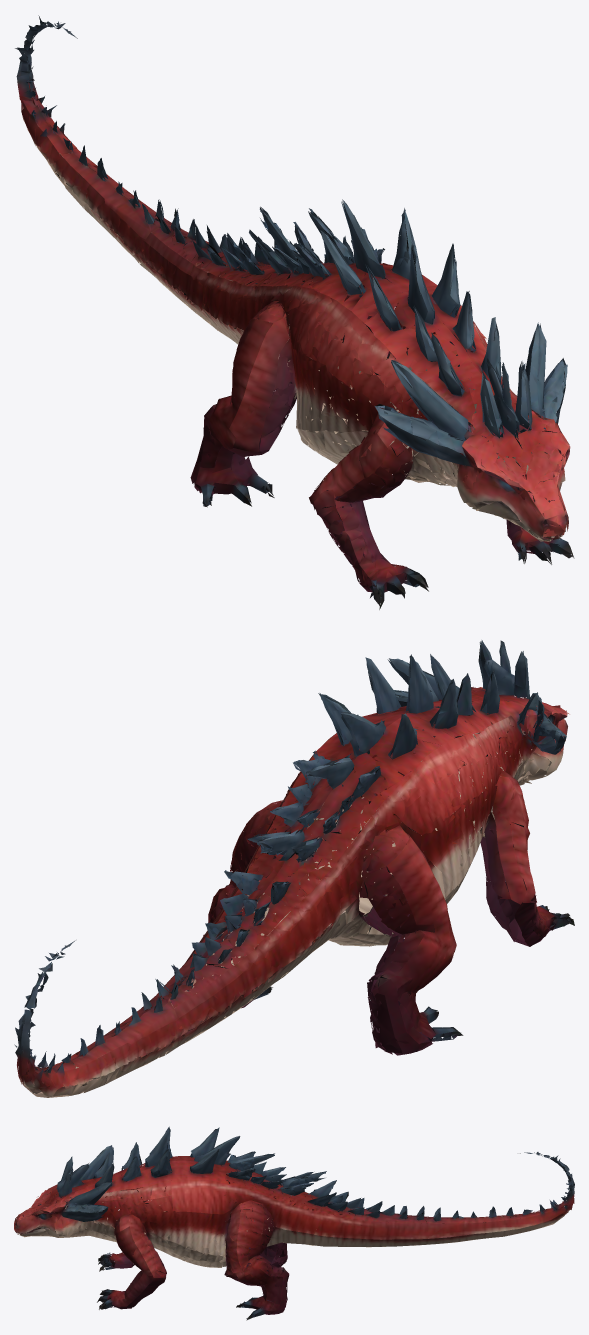
Rendered from giant-salamander.glb.
3 views of the same model, one above another, from view 1: azimuth 30°, elevation 25°; view 2: azimuth 150°, elevation 25°; view 3: azimuth 270°, elevation 25° (orthographic). The views are drawn at different scales.
Visible parts, largest first — view 1: GiantSalamander; view 2: GiantSalamander; view 3: GiantSalamander.
Part boxes in pixels (bbox=[...]): GiantSalamander: bbox=[15, 15, 574, 609]; GiantSalamander: bbox=[14, 640, 574, 1097]; GiantSalamander: bbox=[14, 1126, 574, 1320].
Size of the model in its own units: 0.2795 by 0.3077 by 1.
Materials: 1 (1 with a texture image).
